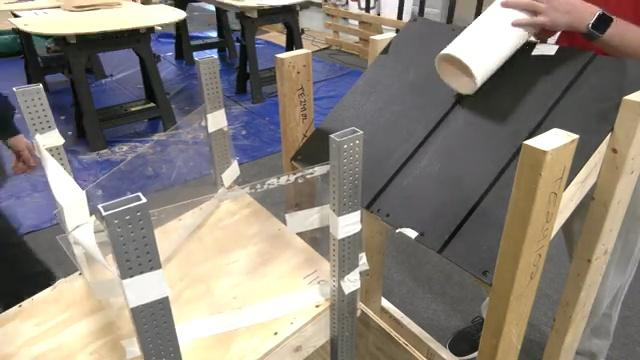CORAL: (433, 0, 540, 96)
